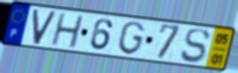6: (90, 18, 114, 52)
7: (157, 22, 182, 61)
G: (116, 20, 147, 57)
H: (49, 12, 86, 50)
S: (180, 28, 212, 64)
V: (31, 8, 59, 47)
